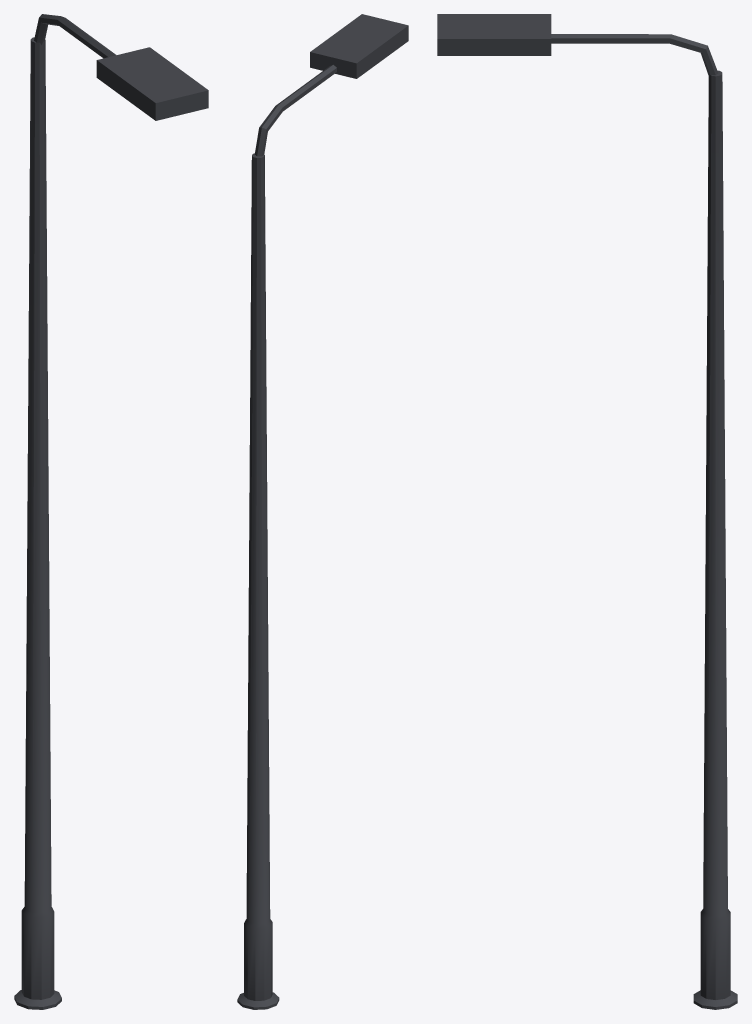
The model's file is gteki_street_lamp_h5000_arm900.glb.
3 views of the same model, side by side, from view 1: azimuth 30°, elevation 25°; view 2: azimuth 150°, elevation 25°; view 3: azimuth 270°, elevation 25° (orthographic). The views are drawn at different scales.
Visible parts, largest first — view 1: VIS_body; view 2: VIS_body; view 3: VIS_body.
Boxes of the visible parts, x1,y1,x2,y2 form: VIS_body: (14,14,208,1009); VIS_body: (237,14,408,1009); VIS_body: (437,14,737,1009).
Size of what is drawn, in the model's own units: 0.28 by 5.1 by 1.42.
1 material, 1 textured.
